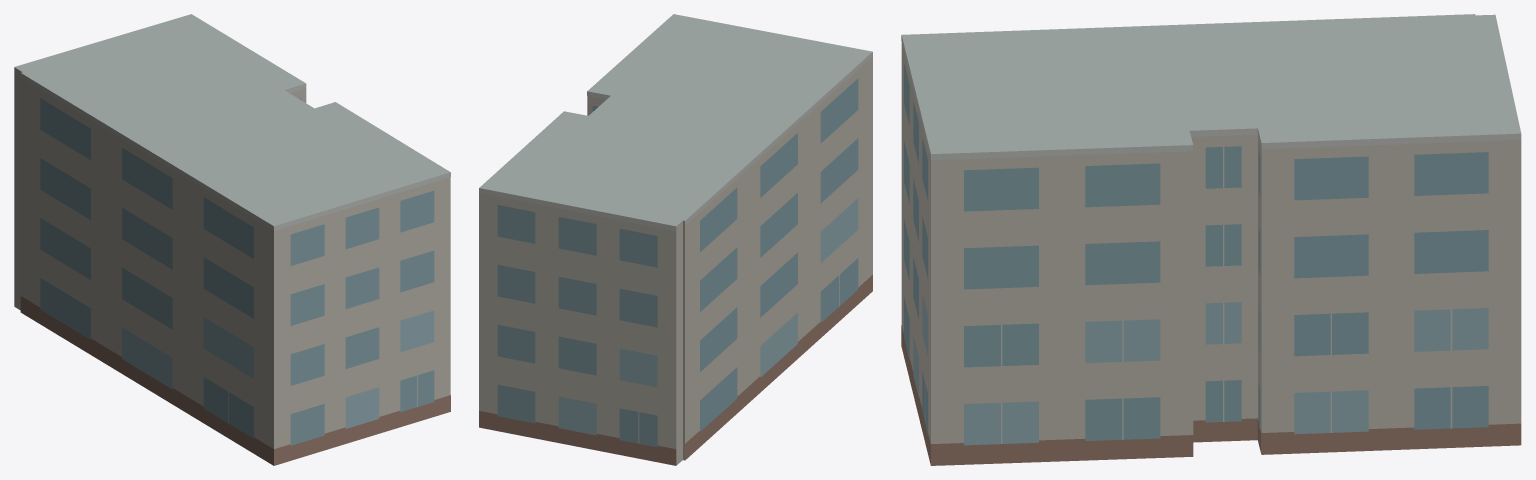
The model's file is survey-upis-32670638.glb.
3 renders of one model, left to right at view 1: azimuth 30°, elevation 25°; view 2: azimuth 150°, elevation 25°; view 3: azimuth 270°, elevation 25°, orthographic. The views are drawn at different scales.
Parts seen in each view (by area): view 1: survey-upis-32670638.tmp; view 2: survey-upis-32670638.tmp; view 3: survey-upis-32670638.tmp.
Part boxes in pixels (<box>): survey-upis-32670638.tmp: <box>14,14,450,465</box>; survey-upis-32670638.tmp: <box>479,14,872,465</box>; survey-upis-32670638.tmp: <box>901,14,1521,465</box>.
Size of the model in its own units: 11.77 by 12.2 by 21.99.
